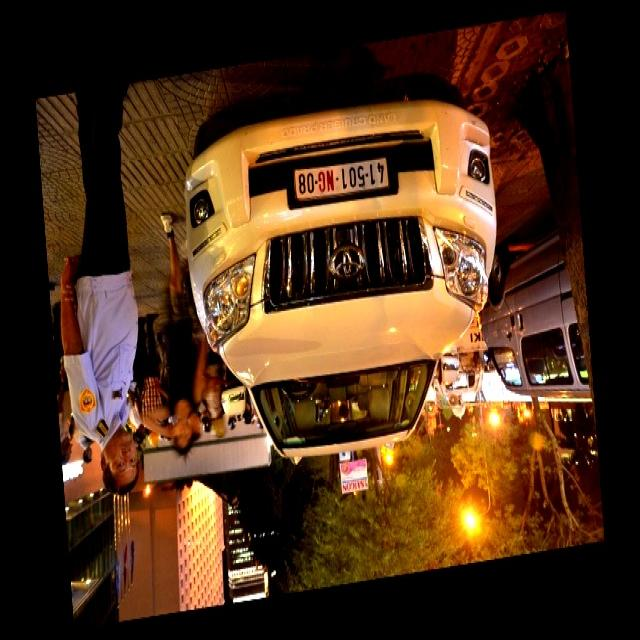bien_ngoai_giao: (293, 159, 390, 201)
